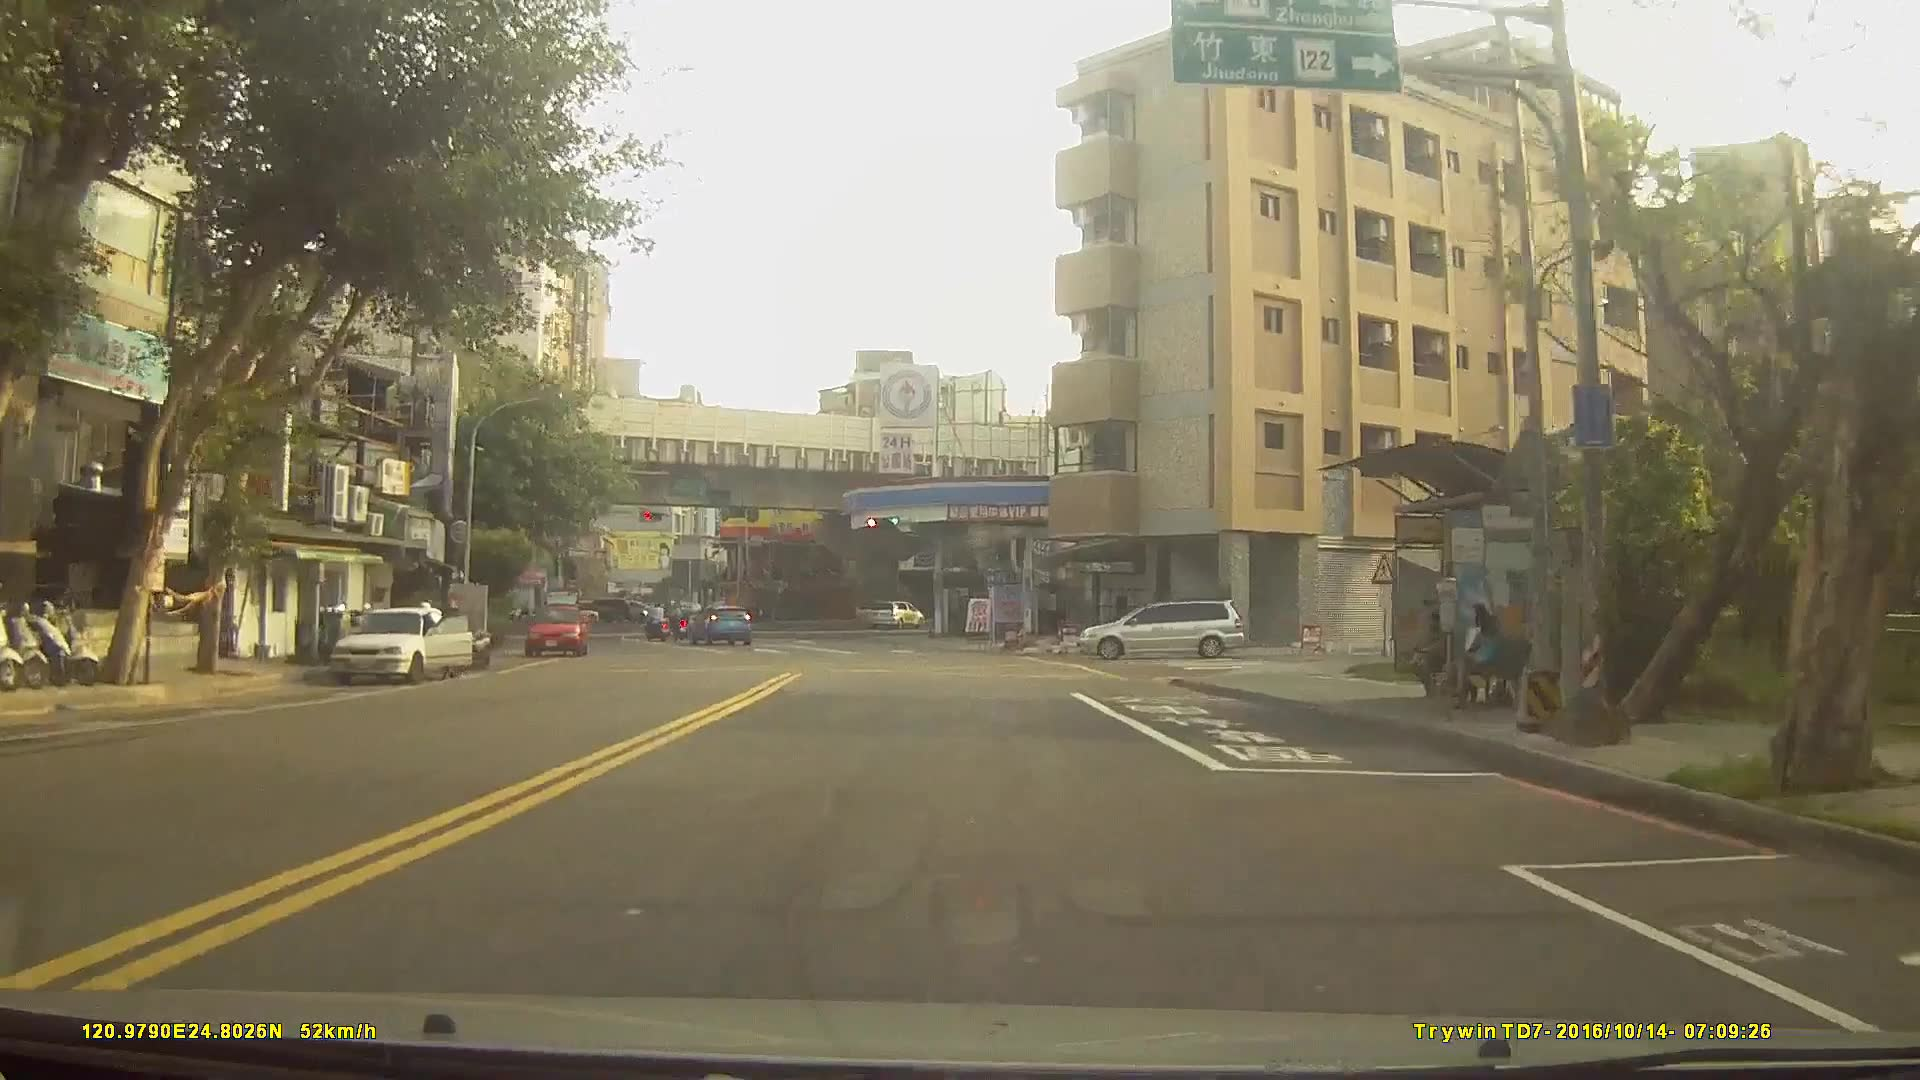pedestrian: (1460, 601, 1512, 707), (1415, 607, 1454, 699)
rider: (645, 602, 673, 646)
vehicle: (328, 602, 476, 684), (1076, 597, 1247, 658), (524, 601, 587, 657), (684, 602, 755, 646), (575, 595, 632, 625), (866, 599, 925, 628)
